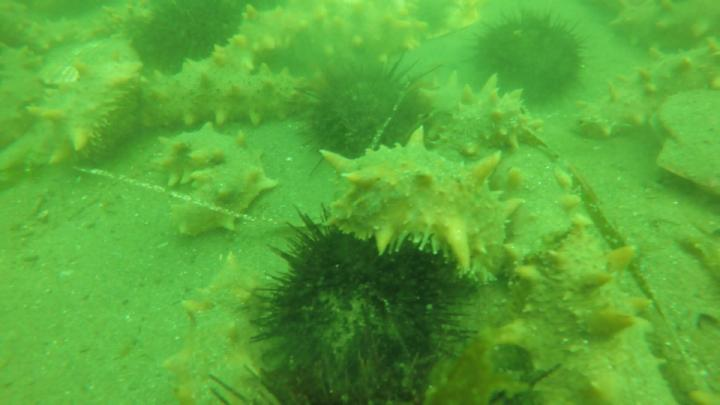echinus: (256, 203, 478, 404), (298, 52, 429, 159), (465, 7, 592, 111), (134, 1, 233, 80)
holothurian: (494, 139, 669, 404), (315, 130, 517, 281), (200, 1, 430, 76), (573, 40, 720, 139), (33, 36, 142, 169), (180, 254, 275, 405), (154, 128, 275, 237), (144, 65, 314, 129), (423, 73, 551, 152), (15, 1, 159, 59), (611, 1, 720, 48), (1, 43, 51, 142)
scallop: (647, 85, 720, 198)
